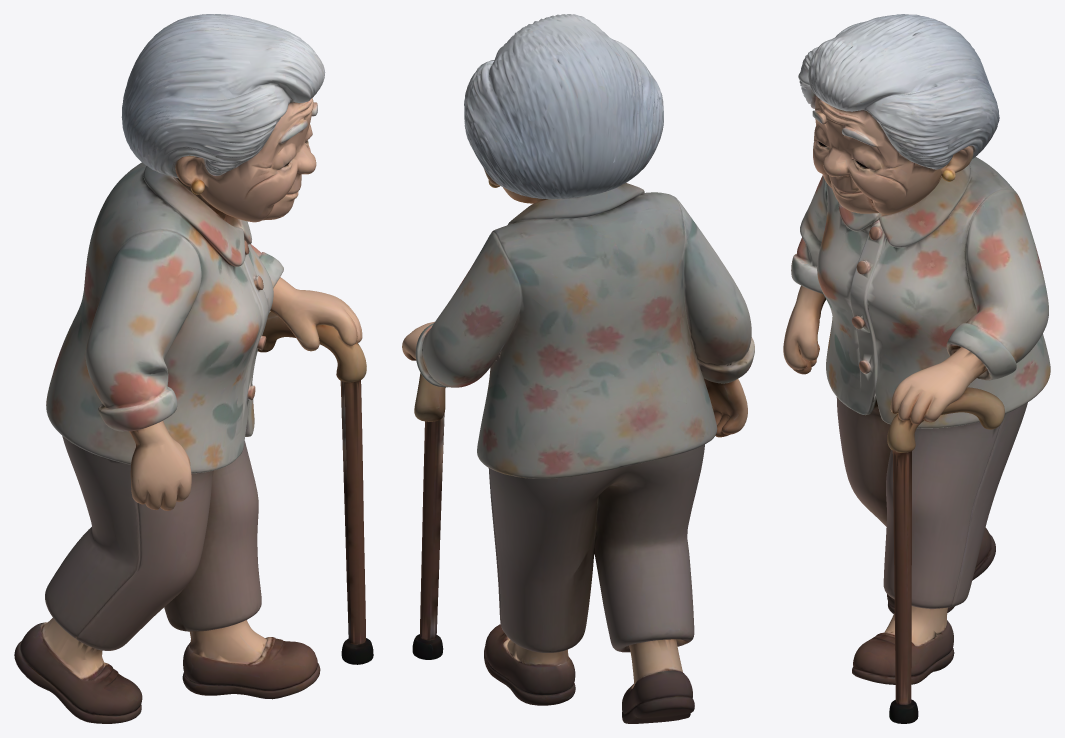
File: old-woman.glb
3 renders of one model, left to right at view 1: azimuth 30°, elevation 25°; view 2: azimuth 150°, elevation 25°; view 3: azimuth 270°, elevation 25°, orthographic. The views are drawn at different scales.
Parts seen in each view (by area): view 1: node_0; view 2: node_0; view 3: node_0.
Part boxes in pixels (box(x1,y1,x2,y2)): node_0: box(14, 14, 373, 723); node_0: box(402, 14, 754, 723); node_0: box(783, 14, 1050, 723).
Size of the model in its own units: 0.5418 by 1.09 by 0.4158.
Materials: 1 (1 with a texture image).
